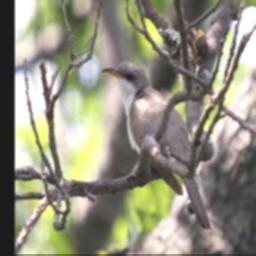Cuckoo: (99, 56, 211, 235)
